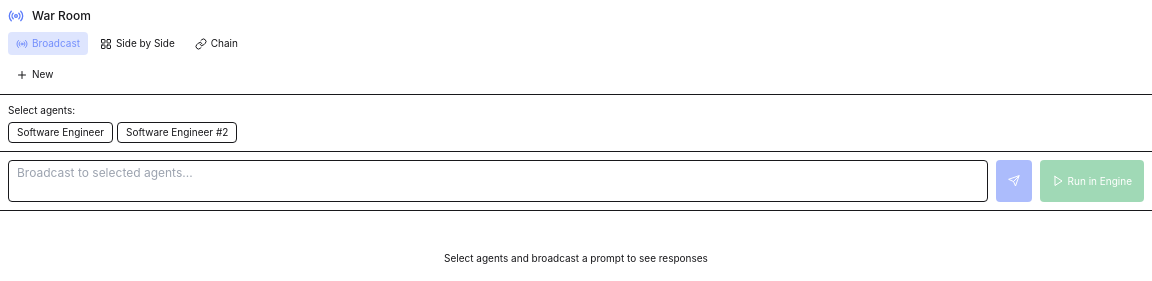
Test: WarRoom › main component › switches to chain view when tab is clicked
Click the button "Chain": (216, 44) [187,32,246,55]
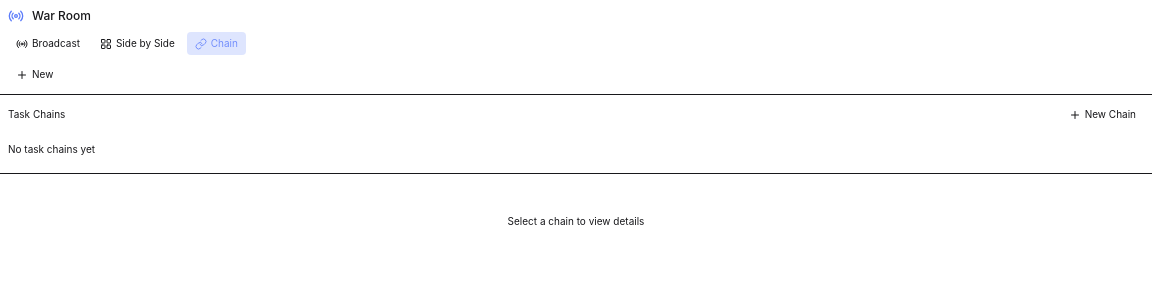
Now the text "No task chains yet" is shown, box [8,143,95,155]
